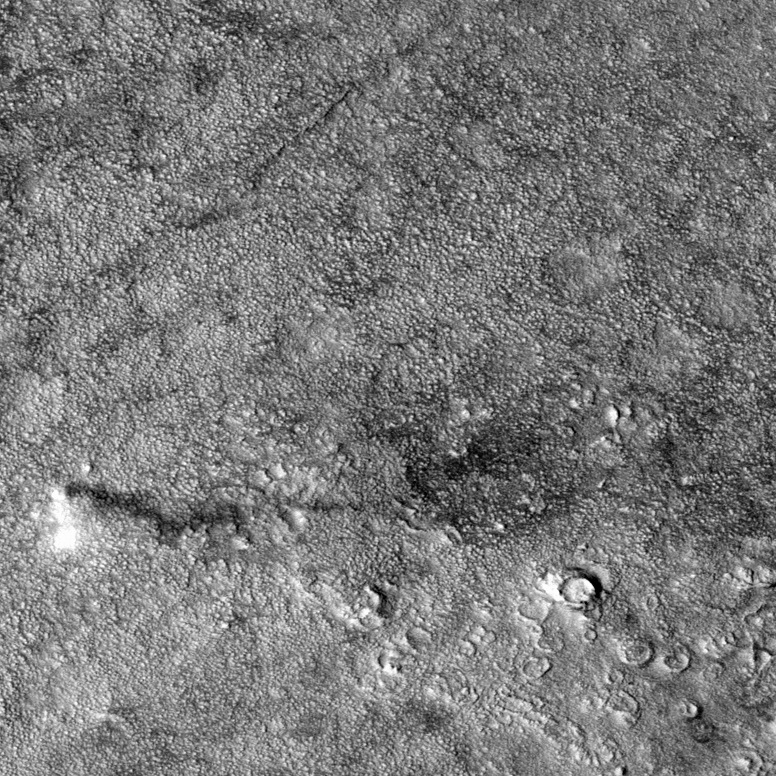dust_devil: (46, 482, 244, 553)
